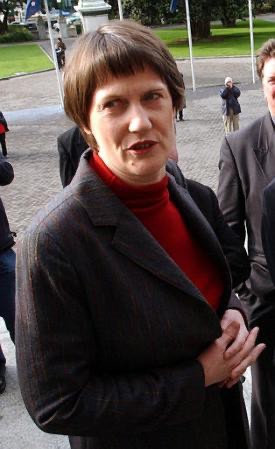Face: (82, 70, 181, 187), (259, 55, 274, 112)
